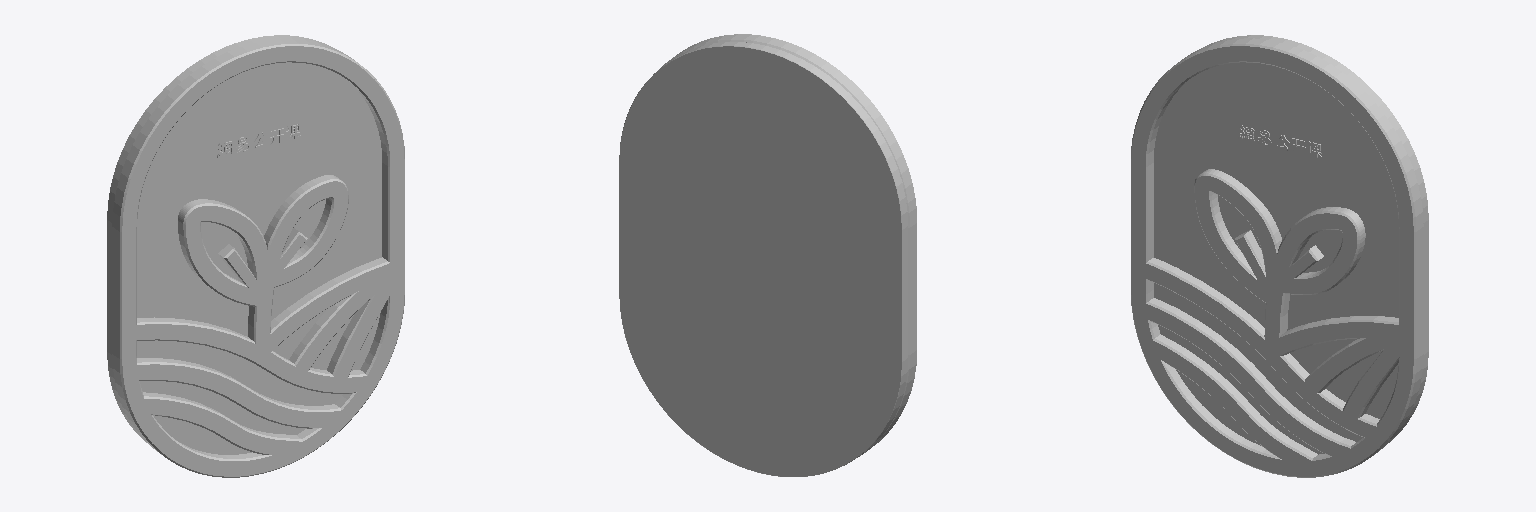
File: med2.obj
The picture shows the model from 3 angles: view 1: azimuth 30°, elevation 25°; view 2: azimuth 150°, elevation 25°; view 3: azimuth 330°, elevation 25°; orthographic projection.
Parts seen in each view (by area): view 1: ??_1_18, ??_1_19, 1, ??_1, 3; view 2: ??_2_18, 1, 3, ??_2; view 3: ??_1_18, ??_1_19, 1, ??_1, 3.
Part boxes in pixels (bbox=[...]): ??_1_18: bbox=[137, 62, 381, 454]; ??_1_19: bbox=[122, 46, 404, 476]; 1: bbox=[112, 38, 387, 458]; ??_1: bbox=[120, 44, 404, 477]; 3: bbox=[107, 35, 330, 442]; ??_2_18: bbox=[619, 46, 901, 476]; 1: bbox=[676, 34, 916, 452]; 3: bbox=[668, 42, 907, 455]; ??_2: bbox=[660, 40, 909, 456]; ??_1_18: bbox=[1154, 62, 1398, 454]; ??_1_19: bbox=[1131, 46, 1413, 476]; 1: bbox=[1148, 38, 1423, 458]; ??_1: bbox=[1131, 44, 1415, 477]; 3: bbox=[1205, 35, 1428, 442].
Size of the model in its own units: 70.96 by 101 by 6.41.